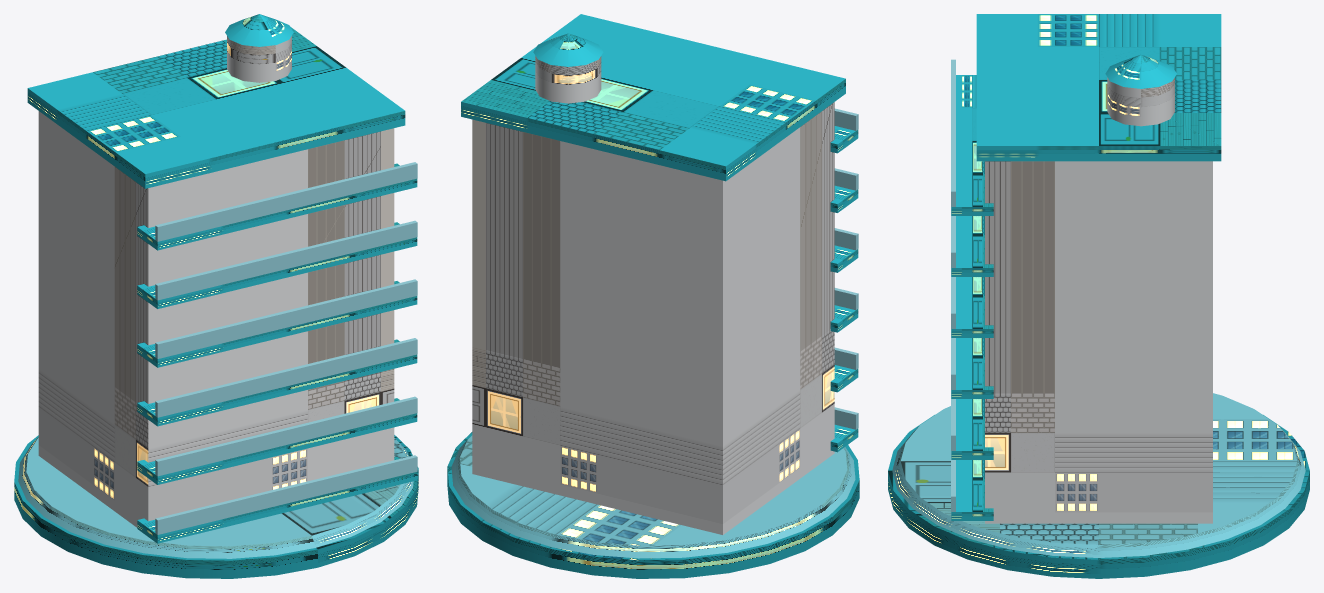
Rendered from tier-11-apartment-block.glb.
The picture shows the model from 3 angles, left to right: view 1: azimuth 30°, elevation 25°; view 2: azimuth 150°, elevation 25°; view 3: azimuth 270°, elevation 25°; orthographic projection. The views are drawn at different scales.
Parts seen in each view (by area): view 1: toon, gloss; view 2: toon, gloss; view 3: toon, gloss.
Part boxes in pixels (x1,y1,x2,y2): toon: (14, 14, 418, 578); gloss: (155, 162, 417, 534); toon: (447, 14, 859, 578); gloss: (834, 108, 858, 429); toon: (888, 14, 1309, 578); gloss: (951, 59, 955, 511).
Bounding box in the file's own units: 1 × 1.22 × 1.
2 materials, 1 textured.
